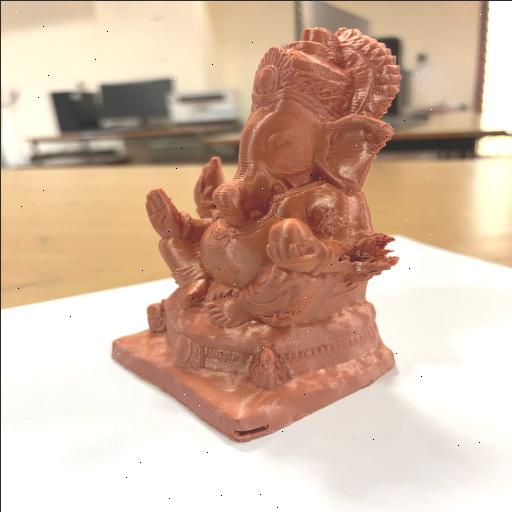cracks: (340, 231, 394, 273), (230, 419, 268, 443)
